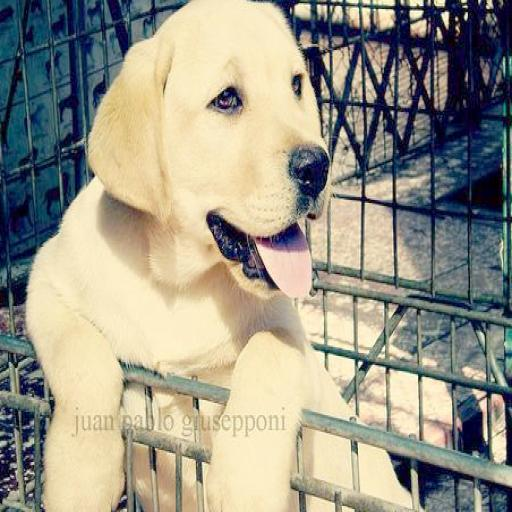dog_face: (97, 0, 332, 303)
